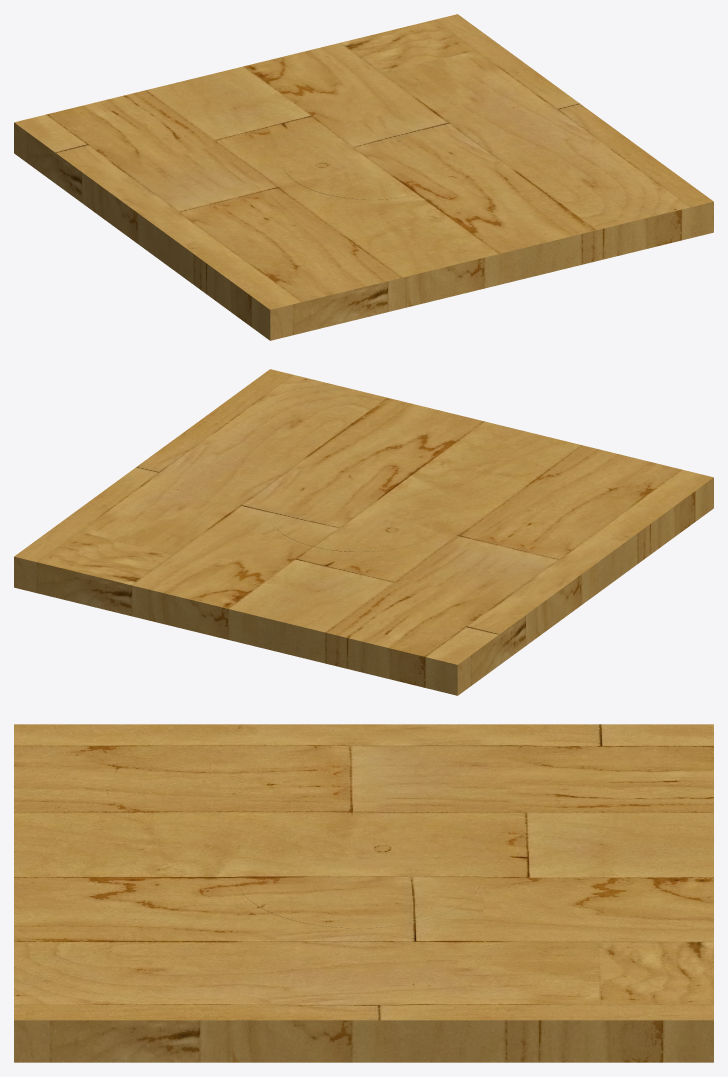
The model's file is PlatformWithHole.fbx.
3 renders of one model, top to bottom at view 1: azimuth 30°, elevation 25°; view 2: azimuth 150°, elevation 25°; view 3: azimuth 270°, elevation 25°, orthographic. The views are drawn at different scales.
Parts seen in each view (by area): view 1: Platform, Cylinder; view 2: Platform, Cylinder; view 3: Platform, Cylinder.
Part boxes in pixels (x1,y1,x2,y2): Platform: [14, 14, 713, 340]; Cylinder: [282, 123, 461, 199]; Platform: [14, 369, 713, 695]; Cylinder: [269, 476, 449, 551]; Platform: [14, 724, 713, 1062]; Cylinder: [236, 824, 481, 928].
Bounding box in the file's own units: 300 × 20.2 × 300.
